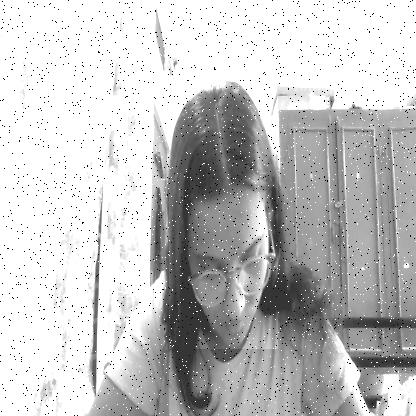Normal: (169, 87, 278, 349)
